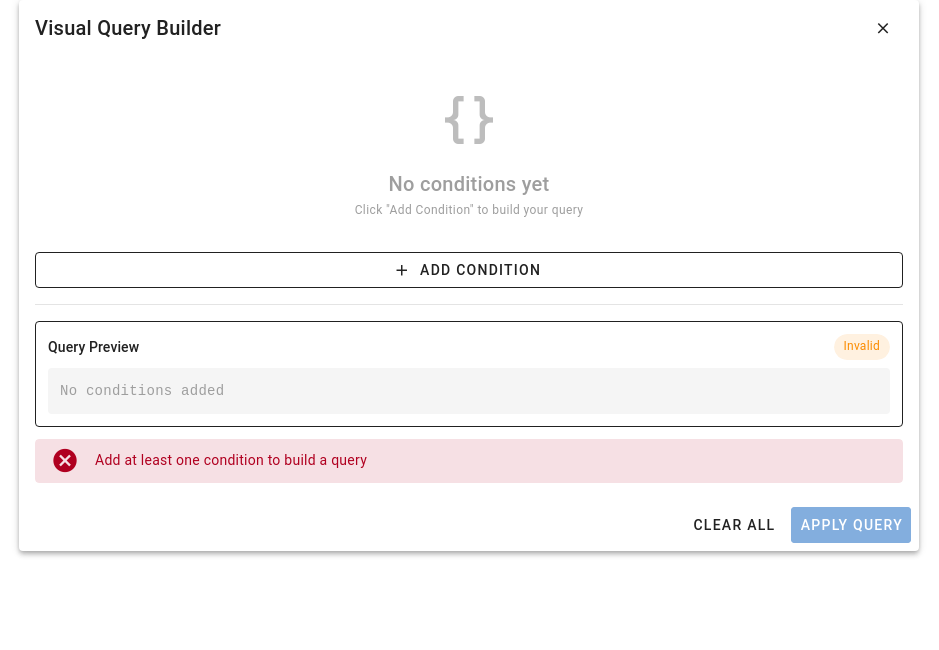
Test: QueryBuilder Component › Integration with Parent › clears all conditions when clear button clicked
This screenshot has width=939, height=650.
Step 1. Click the button with test id "add-condition-btn" → [469, 270], box [35,252,903,288]
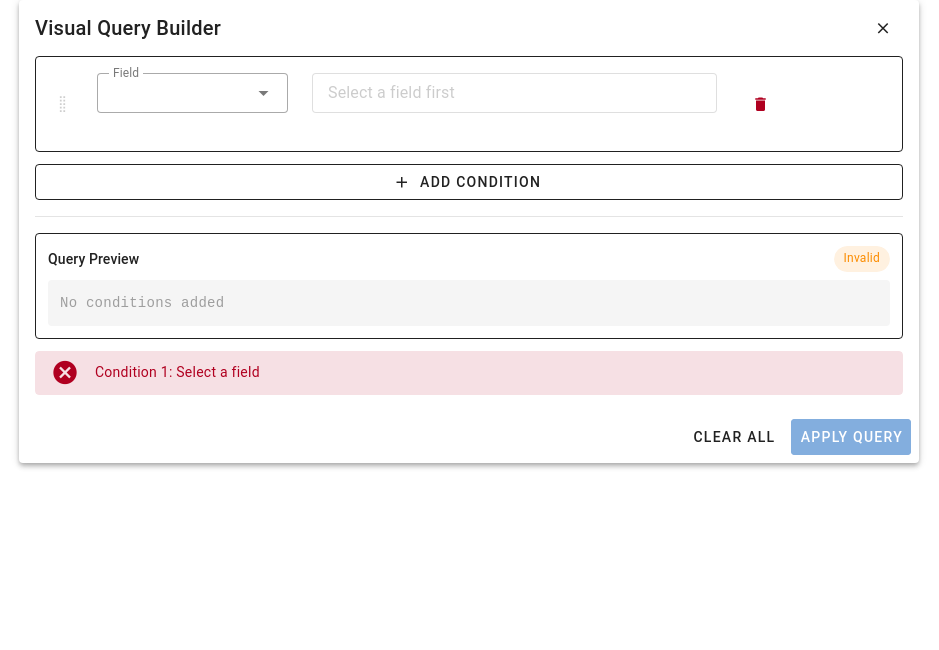
Step 2. Click the button with test id "add-condition-btn" → [469, 182], box [35,164,903,200]
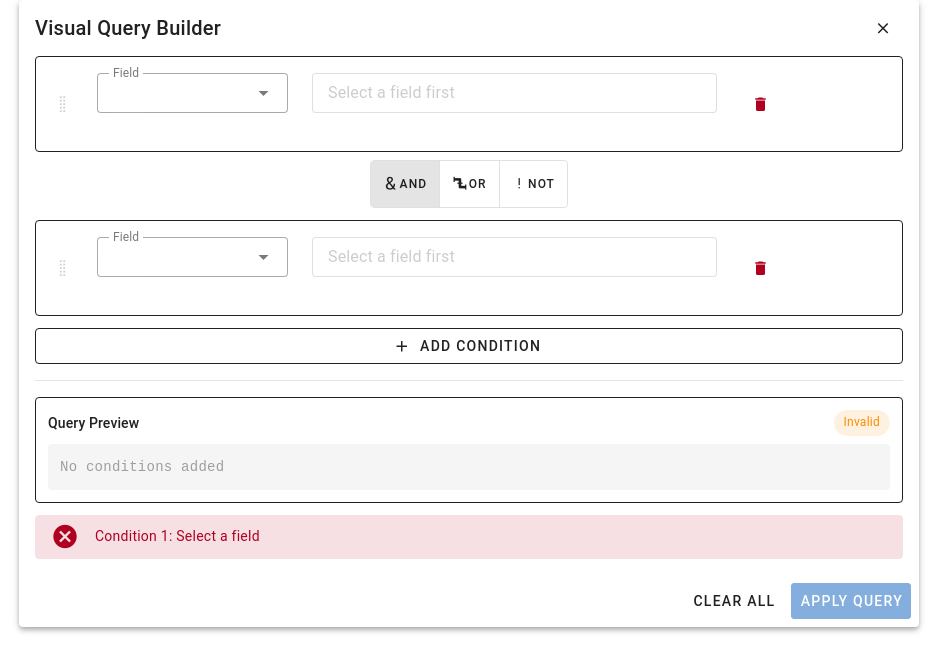
Step 3. Click the button with test id "clear-btn" → [734, 601], box [684,583,783,619]
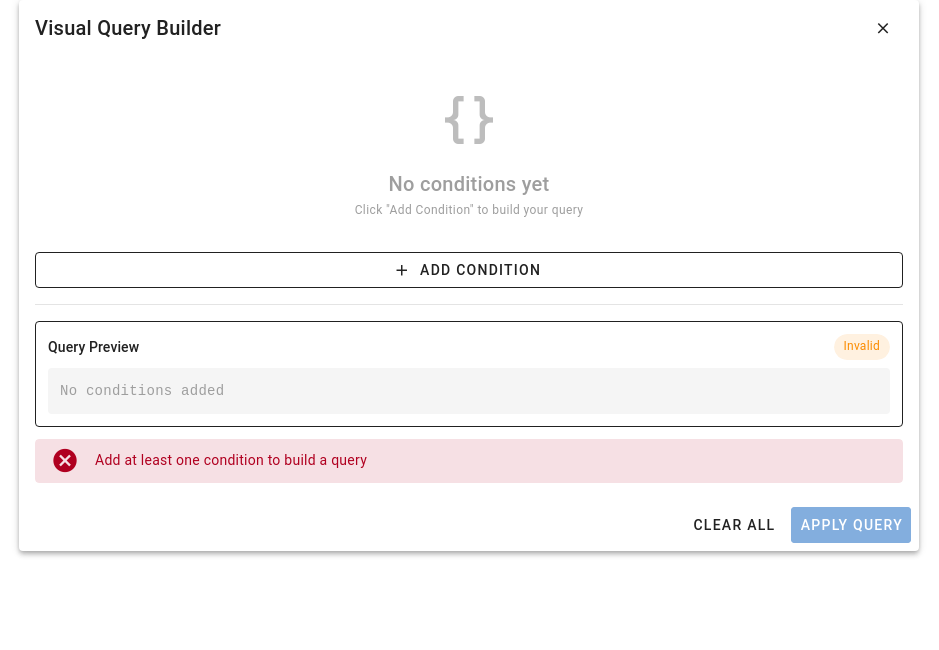
Check: no elements with test id "condition-row" are shown
Check: the element with test id "empty-state" is shown, box [355,88,583,217]
